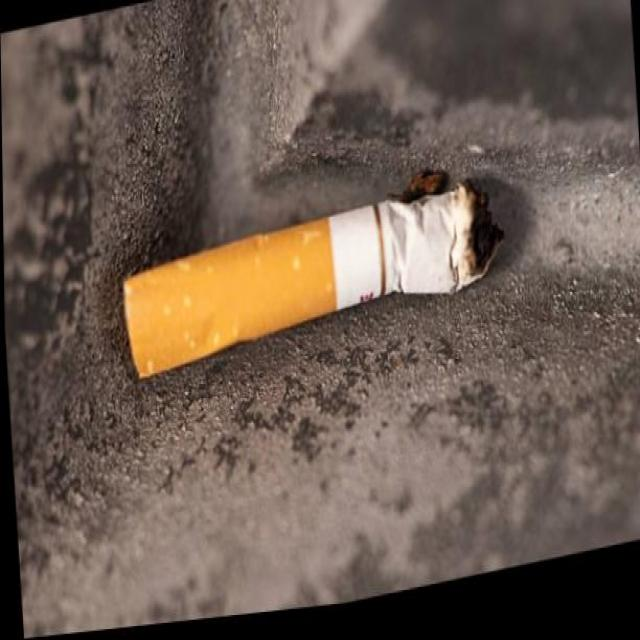cigarette: (118, 180, 504, 387)
